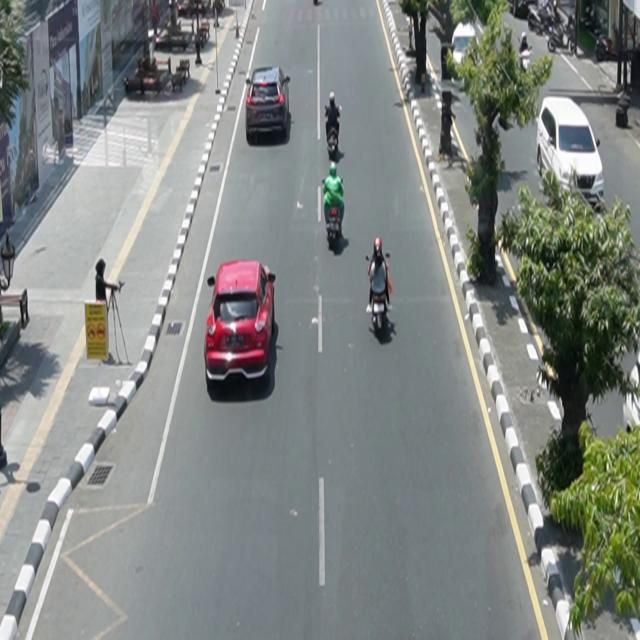car: (204, 260, 277, 387), (537, 96, 606, 211), (246, 66, 292, 142)
